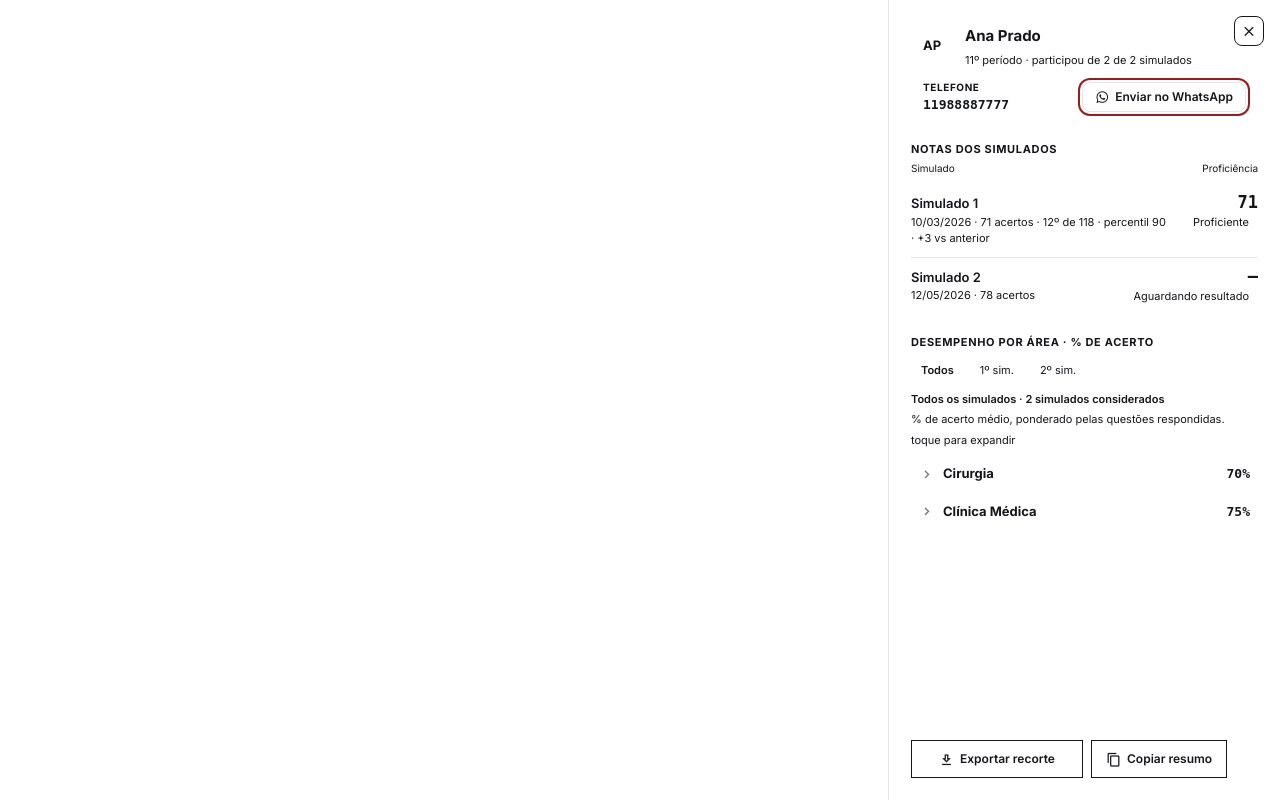
Test: DrawerAluno — procedência do bloco de área (achado 11/08) › quando o bloco de área é de outro simulado que a proficiência, diz isso
Click the button "2º sim.". click: click(1058, 370)
box: [1030,358,1086,382]
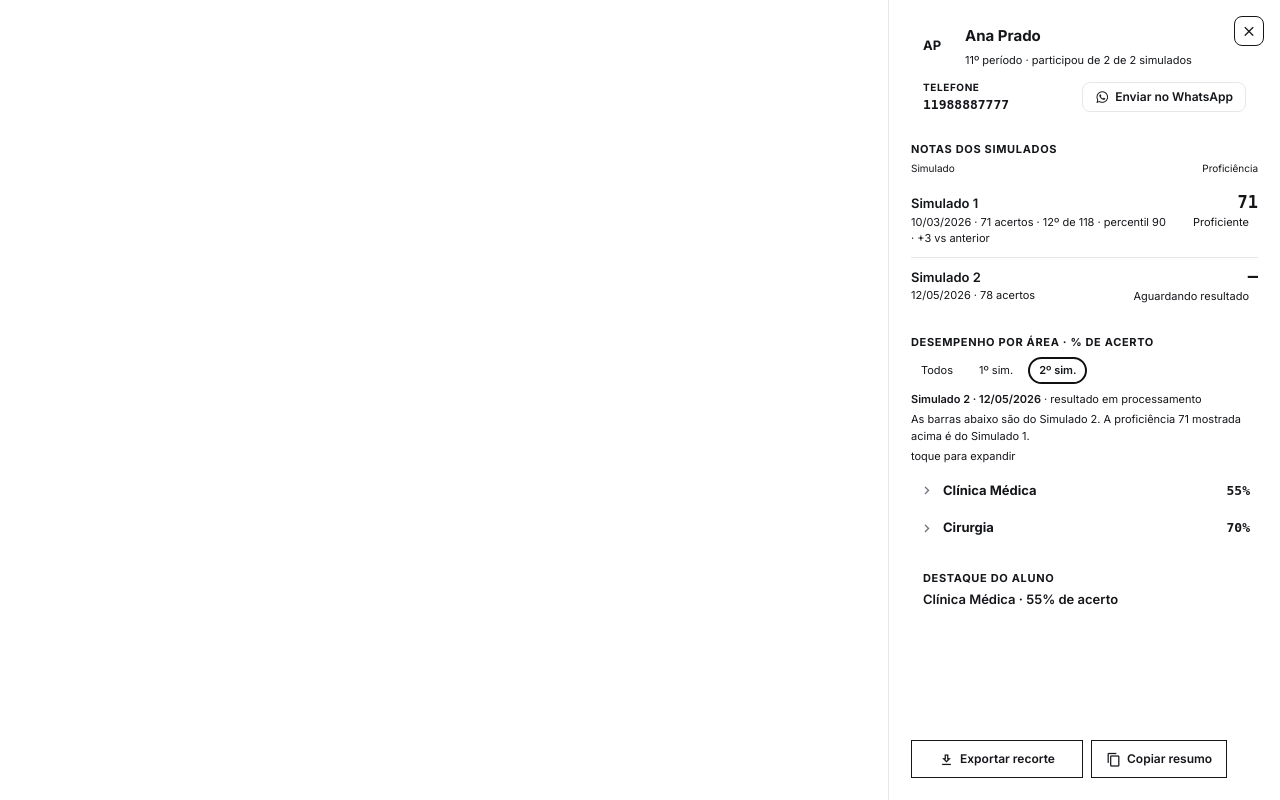
Now the element with test id "drawer-areas" shows "resultado em processamento", box [1041,392,1202,406]
Now the text with test id "aviso-simulado-areas" shows "As barras abaixo são do Simulado 2. A proficiência 71 mostrada acima é do Simulado 1.", box [911,412,1241,442]
